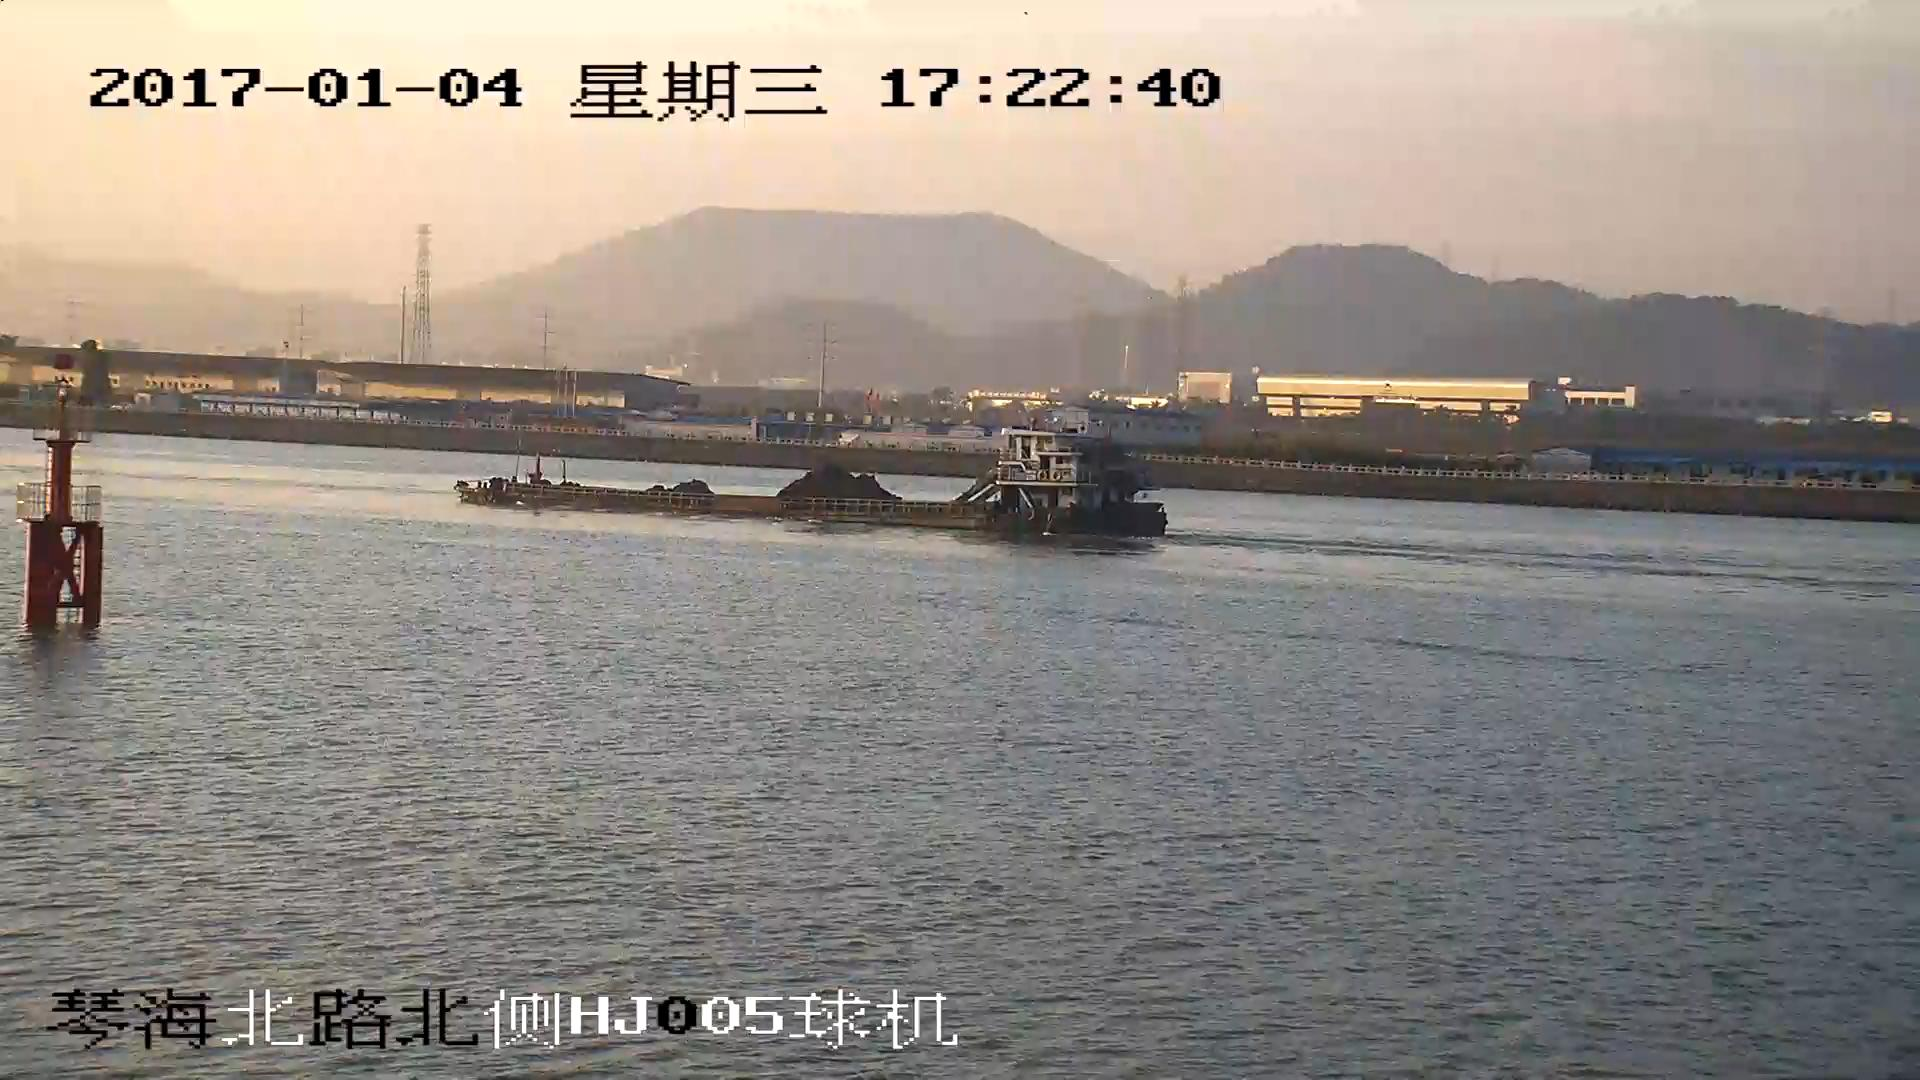ore carrier: (458, 428, 1171, 538)
